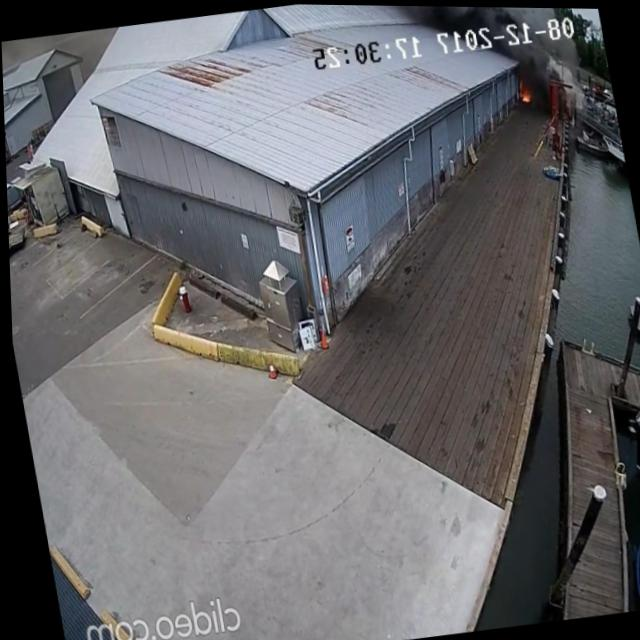fire: (518, 85, 534, 106)
